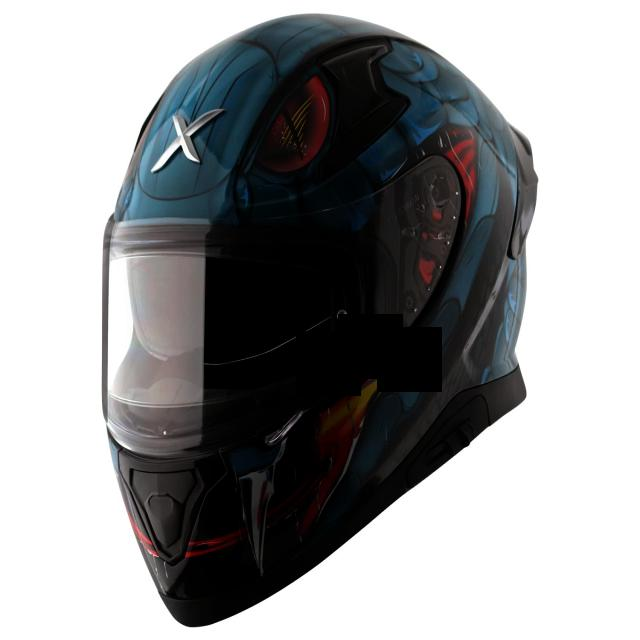Helmet: (102, 16, 538, 625)
